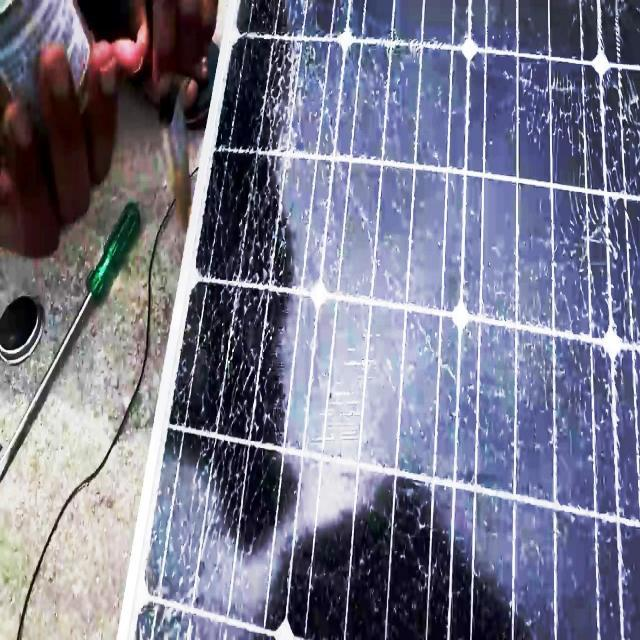faulty: (129, 4, 640, 640)
